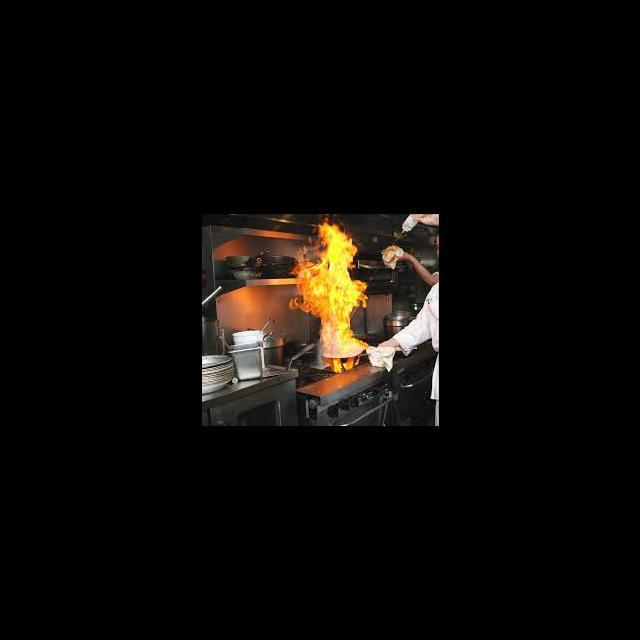Fire: (288, 218, 370, 360)
